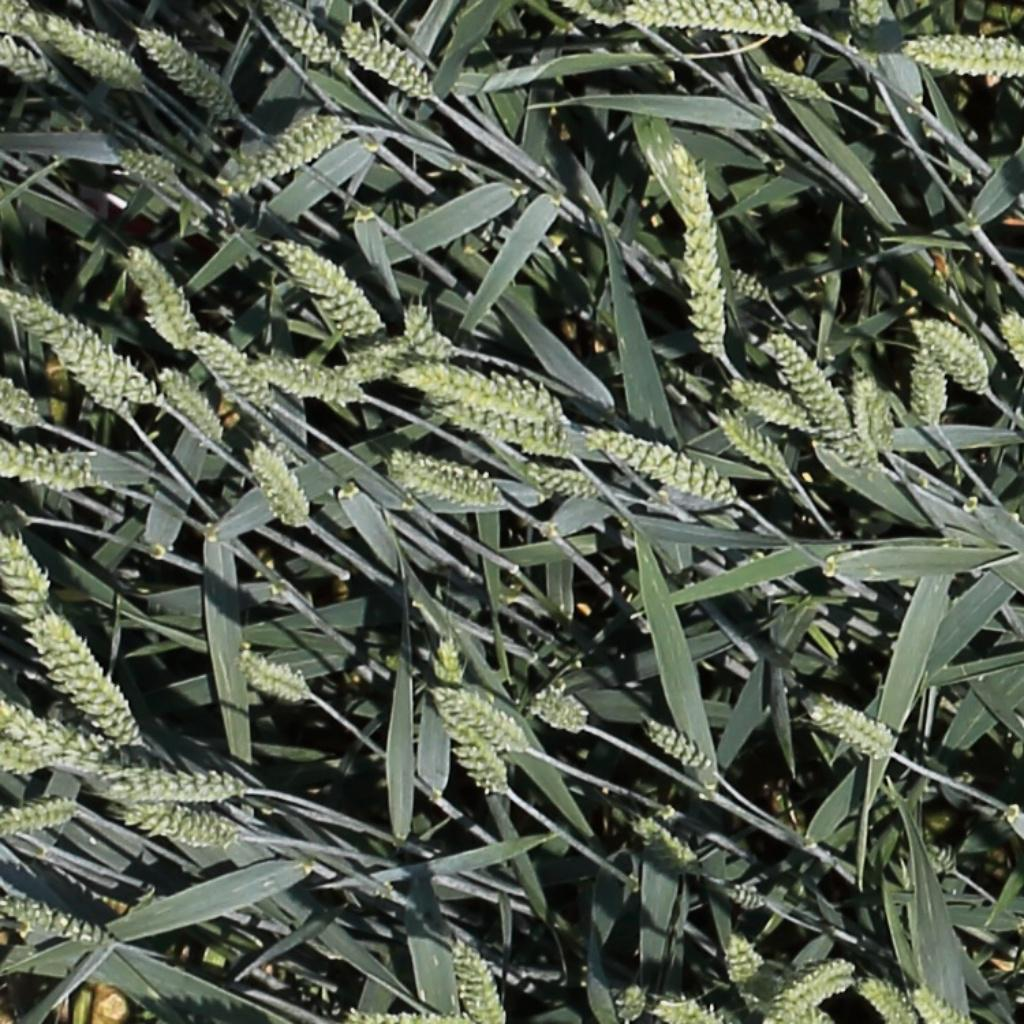0-0: (0, 273, 165, 413), (63, 10, 252, 123), (0, 270, 136, 422), (28, 603, 162, 750), (652, 134, 732, 361), (578, 417, 761, 514), (764, 327, 876, 470), (398, 354, 574, 427), (271, 238, 389, 337), (222, 107, 355, 188), (427, 688, 512, 799), (339, 23, 445, 108), (260, 1, 365, 86), (185, 326, 286, 411), (42, 16, 148, 95), (903, 22, 1024, 88), (622, 0, 810, 42), (439, 402, 573, 460), (93, 756, 249, 805), (124, 244, 196, 348), (115, 796, 255, 849), (907, 316, 993, 402), (387, 451, 512, 510), (800, 692, 902, 764), (1, 894, 120, 948), (447, 933, 517, 1024), (446, 692, 541, 758), (0, 435, 109, 491), (241, 441, 307, 531), (253, 360, 376, 406), (152, 364, 222, 443), (768, 960, 863, 1017), (641, 722, 724, 785), (398, 297, 470, 369), (727, 377, 820, 430), (234, 652, 326, 703), (0, 526, 55, 610), (528, 460, 616, 512), (712, 410, 782, 472), (854, 367, 900, 460), (908, 336, 949, 432), (330, 337, 415, 382), (630, 817, 696, 871), (0, 792, 79, 834), (857, 976, 926, 1024), (524, 690, 596, 734), (757, 62, 837, 101), (114, 148, 187, 189), (0, 725, 52, 782), (907, 984, 976, 1024), (0, 385, 56, 431), (0, 43, 61, 84), (723, 266, 781, 307), (999, 309, 1024, 402), (851, 0, 883, 70), (724, 929, 759, 992), (651, 1002, 742, 1024), (723, 887, 783, 919), (432, 632, 462, 694), (611, 980, 648, 1024), (566, 0, 623, 25), (90, 992, 125, 1024)
